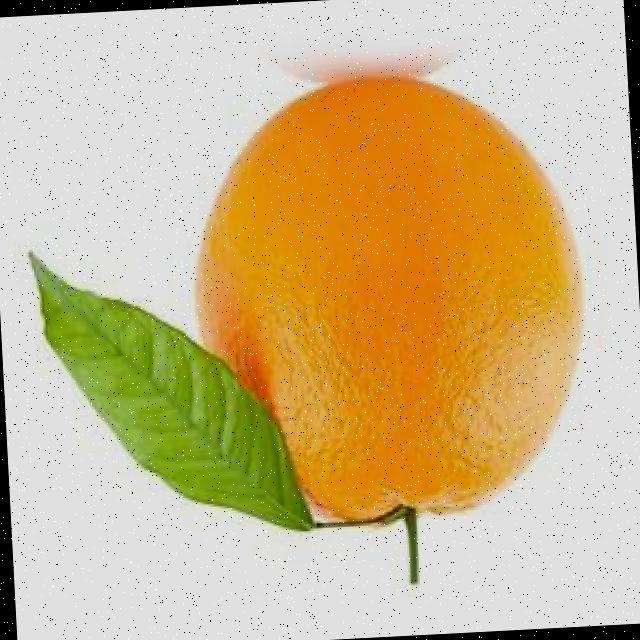Ripe: (191, 66, 596, 540)
